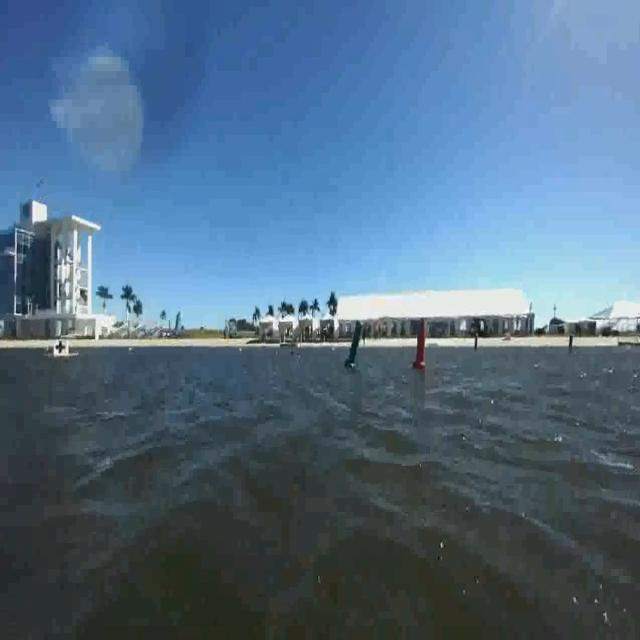green-column-buoy: (345, 319, 367, 369)
red-column-buoy: (413, 320, 430, 370)
